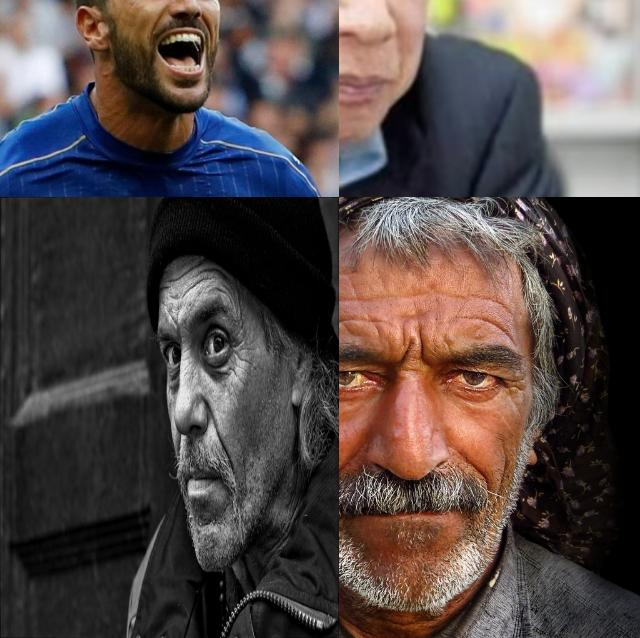bunny_line: (182, 344, 191, 371)
chin: (199, 513, 216, 531)
crows_feet: (232, 333, 248, 369), (502, 372, 524, 397)
forehead: (468, 310, 512, 341), (463, 288, 511, 314), (339, 310, 374, 335), (339, 289, 377, 309), (193, 258, 210, 283), (168, 268, 188, 285), (217, 281, 233, 301)
frown_line: (396, 333, 428, 367), (174, 310, 181, 339)
gummy_smile: (457, 452, 493, 488), (207, 399, 225, 444), (149, 9, 165, 37), (202, 18, 214, 52)
masseter: (496, 455, 514, 495)
